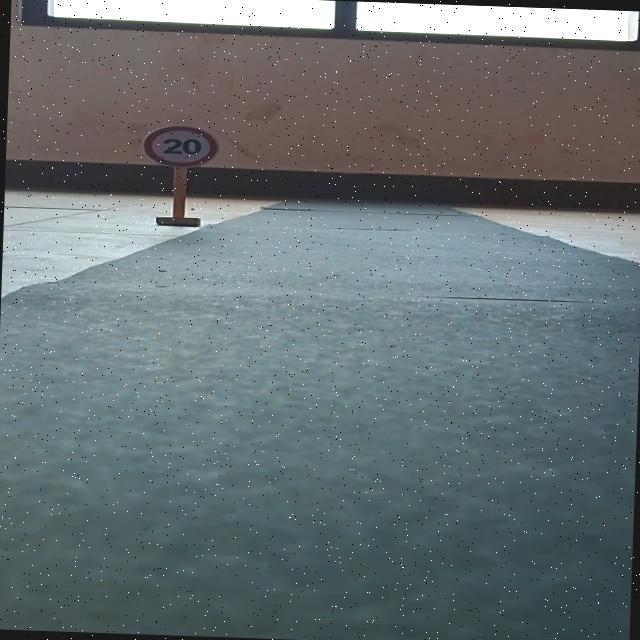Speed20: (134, 120, 225, 172)
